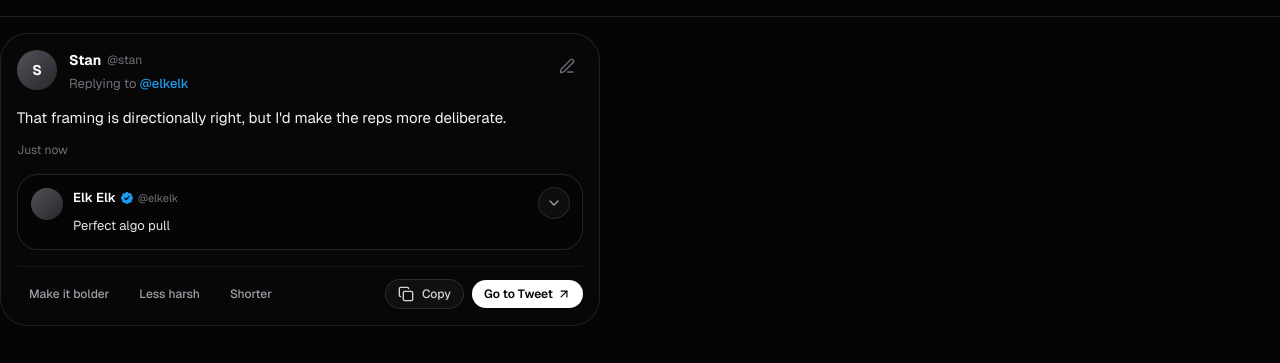
renders the inline source preview collapsed by default and expands on click
Check: the text "Perfect algo pull" is shown, box top-left (73, 216), bottom-right (170, 234)
Check: the text "with a second line that should stay hidden while collapsed" is not shown
Click the button named "Expand source post preview": (554, 203) top-left (538, 187), bottom-right (570, 219)
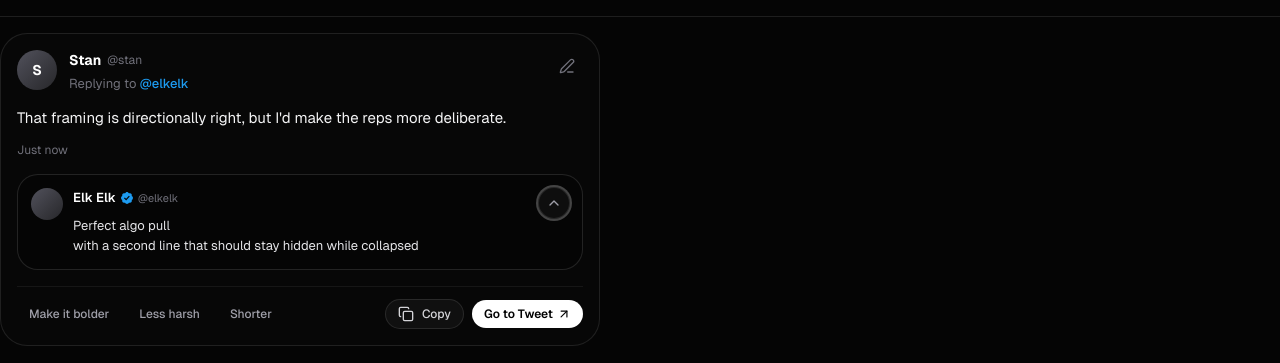
Check: the text "Elk Elk" is shown once, box top-left (73, 188), bottom-right (116, 208)
Check: the button named "Collapse source post preview" is expanded, box top-left (538, 187), bottom-right (570, 219)
Check: the text "with a second line that should stay hidden while collapsed" is shown, box top-left (73, 216), bottom-right (419, 254)
